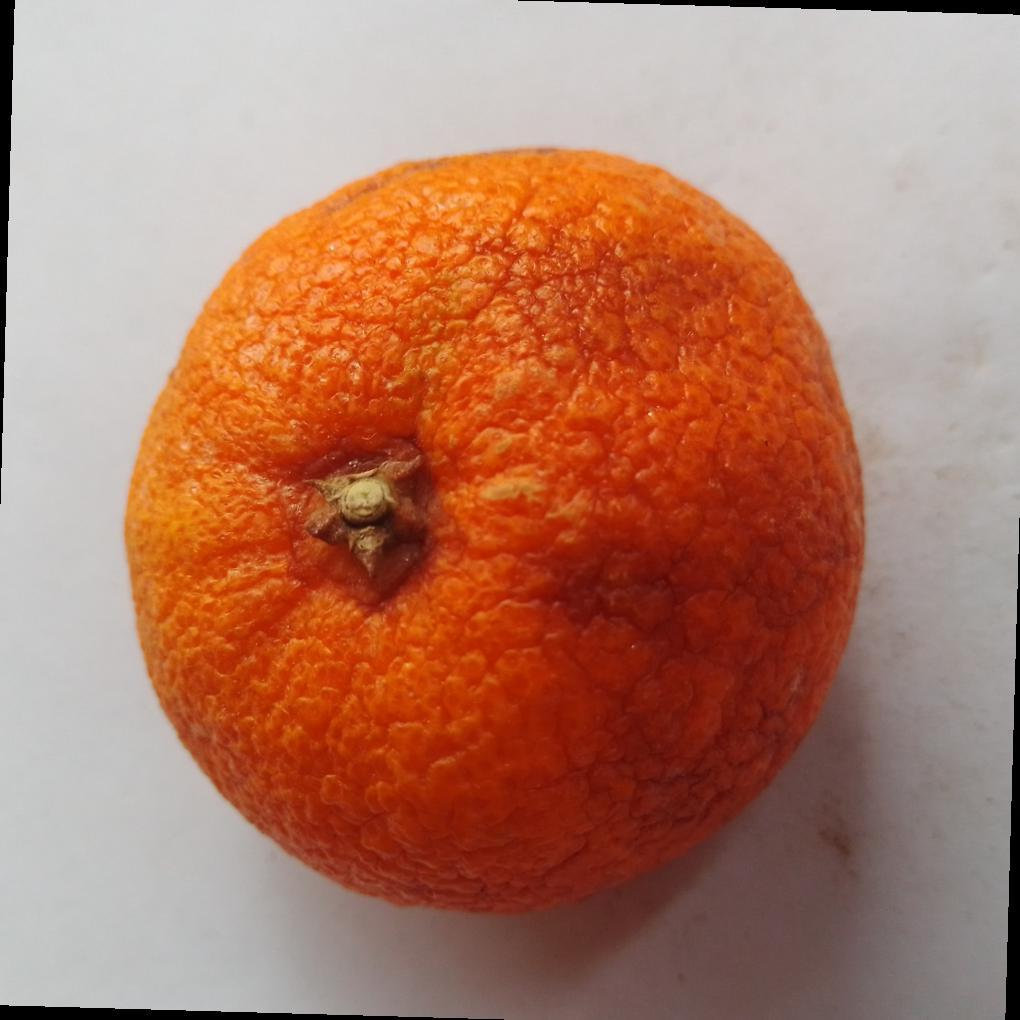FreshOrange: (121, 147, 867, 919)
